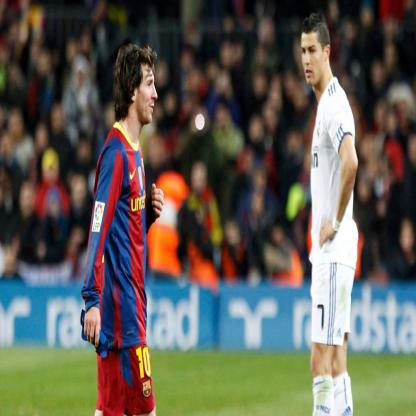face: (134, 63, 159, 120), (302, 31, 326, 85)
